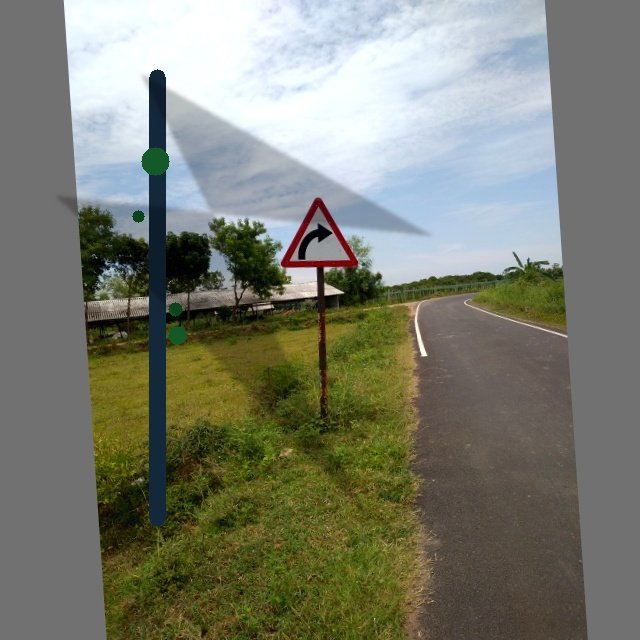Right_Hand_Curve: (277, 194, 356, 273)
